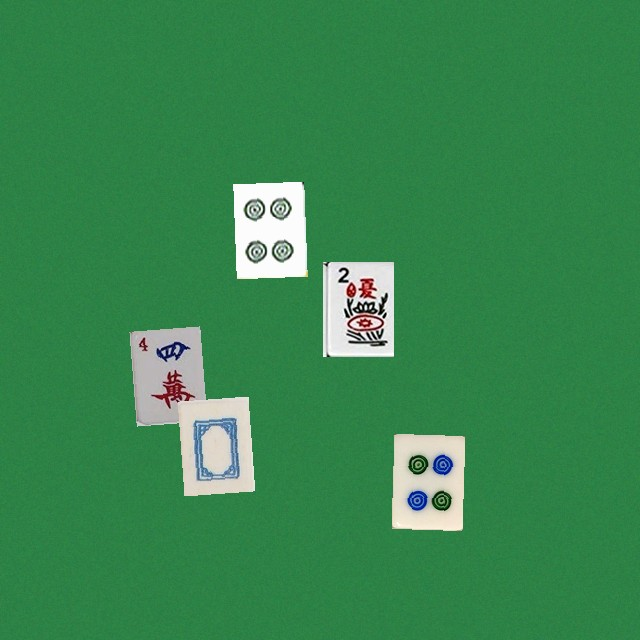tile: (129, 326, 200, 421), (322, 261, 393, 356), (391, 433, 462, 528), (177, 396, 248, 491), (233, 181, 304, 276)
